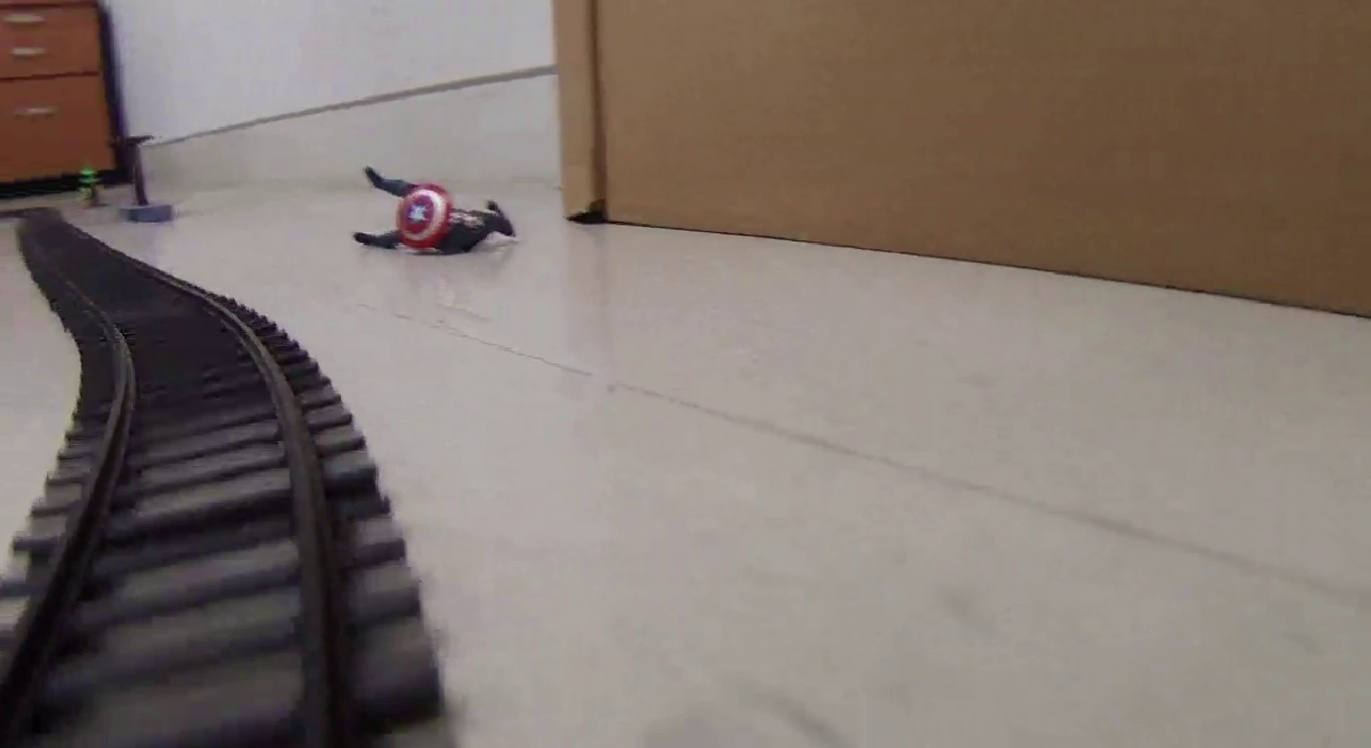people: (352, 166, 520, 259)
